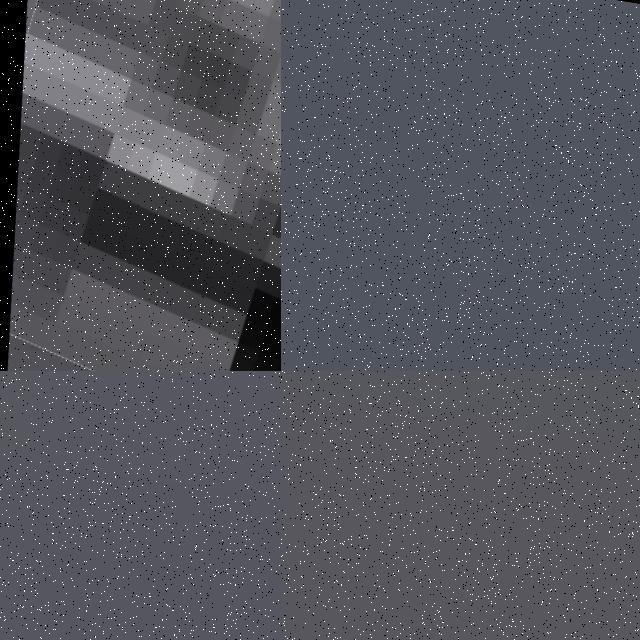drone: (0, 0, 281, 371)
